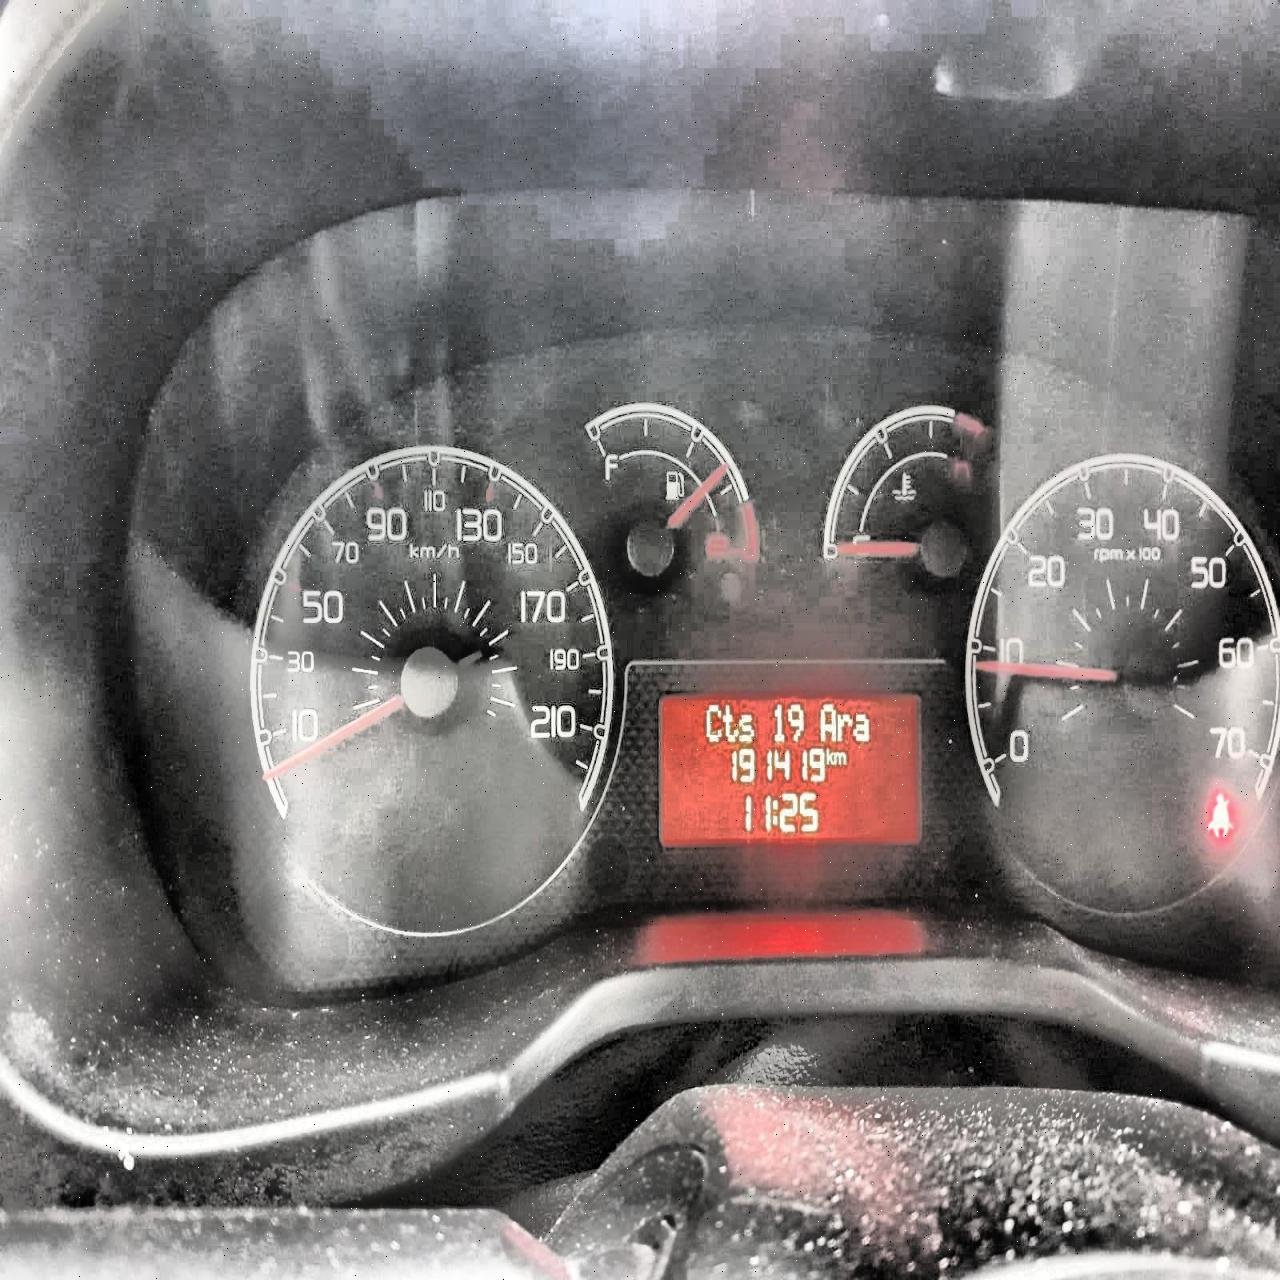1: (770, 700, 785, 743), (742, 792, 753, 832), (763, 791, 771, 833), (763, 748, 772, 781), (799, 744, 808, 782), (729, 747, 737, 783)
2: (778, 789, 797, 832)
4: (772, 747, 790, 783)
5: (798, 788, 819, 833)
9: (785, 701, 804, 743), (808, 744, 825, 783), (737, 745, 755, 783)
X: (704, 701, 722, 744), (818, 700, 836, 742), (722, 702, 738, 743), (852, 710, 871, 744), (738, 710, 755, 743), (836, 712, 852, 742), (833, 749, 846, 767), (771, 797, 778, 826), (824, 745, 833, 765)
odometer: (653, 687, 924, 849)
